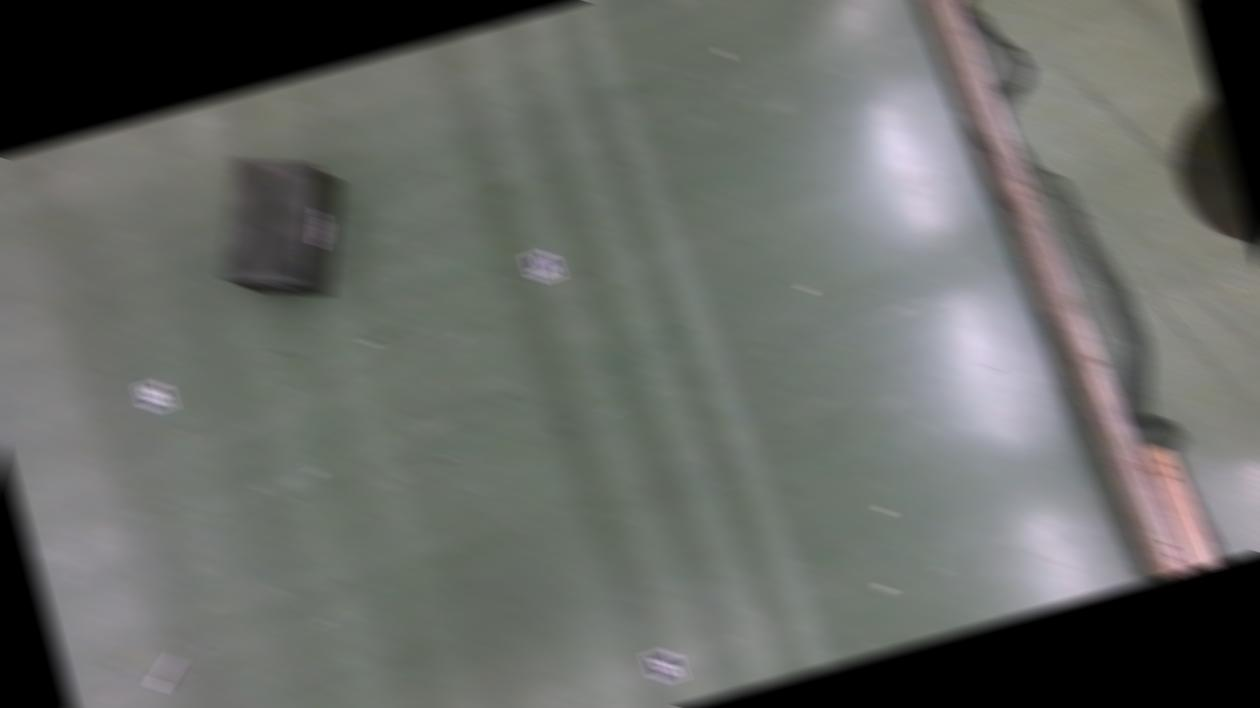probes: (141, 648, 192, 692)
rako: (193, 135, 370, 321)
